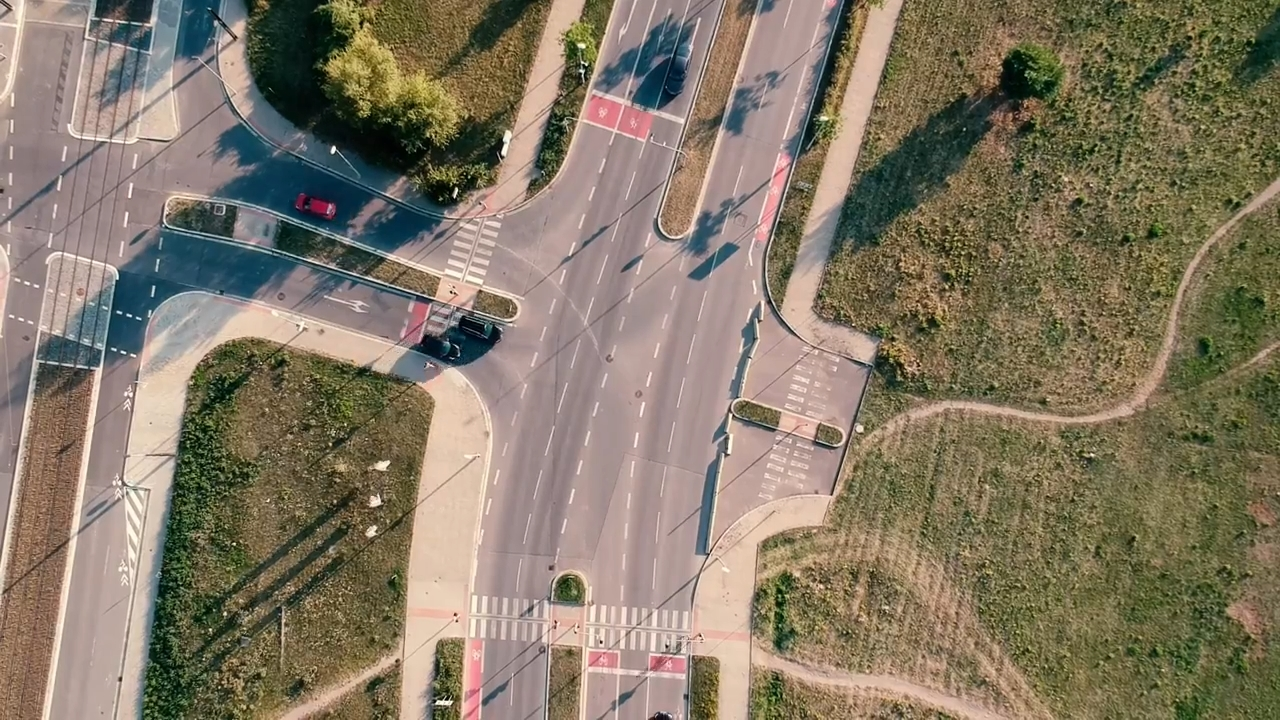car: (663, 41, 691, 95), (459, 313, 505, 344), (296, 190, 337, 223), (421, 332, 463, 360)
